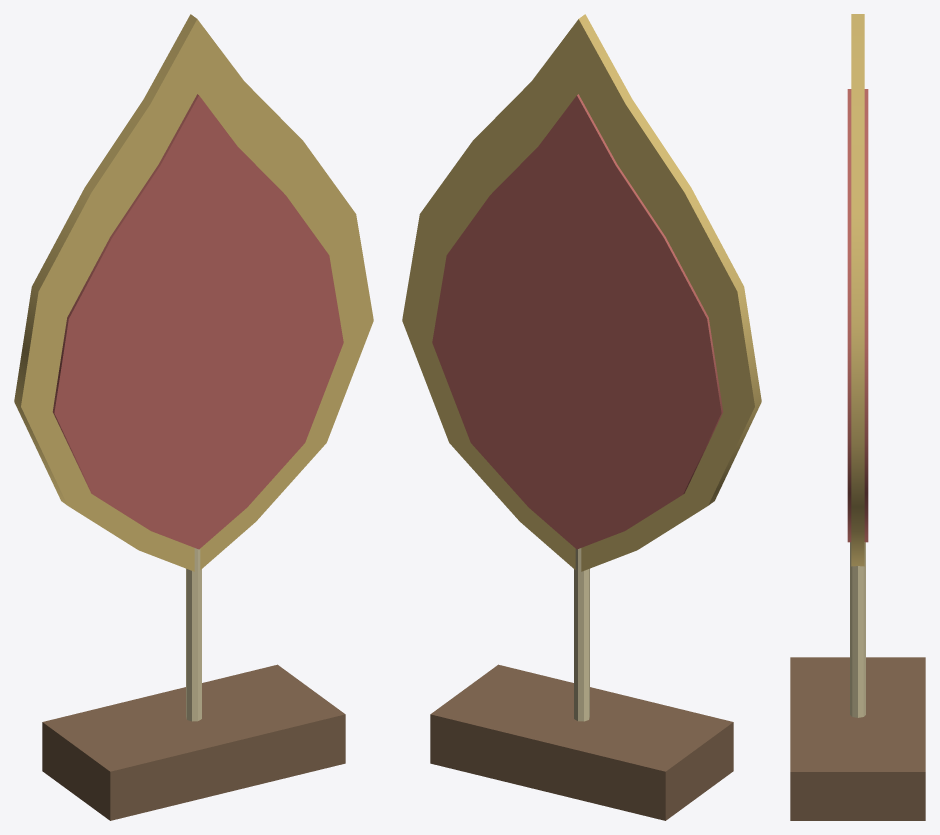
Rendered from Gunungan_Wayang.fbx.
3 renders of one model, left to right at view 1: azimuth 30°, elevation 25°; view 2: azimuth 150°, elevation 25°; view 3: azimuth 270°, elevation 25°, orthographic.
Visible parts, largest first — view 1: Gunungan_Wayang; view 2: Gunungan_Wayang; view 3: Gunungan_Wayang.
Part boxes in pixels (bbox=[...]): Gunungan_Wayang: bbox=[14, 14, 373, 820]; Gunungan_Wayang: bbox=[402, 14, 761, 820]; Gunungan_Wayang: bbox=[790, 14, 925, 820].
Size of the model in its own units: 0.6 by 1.22 by 0.2.
